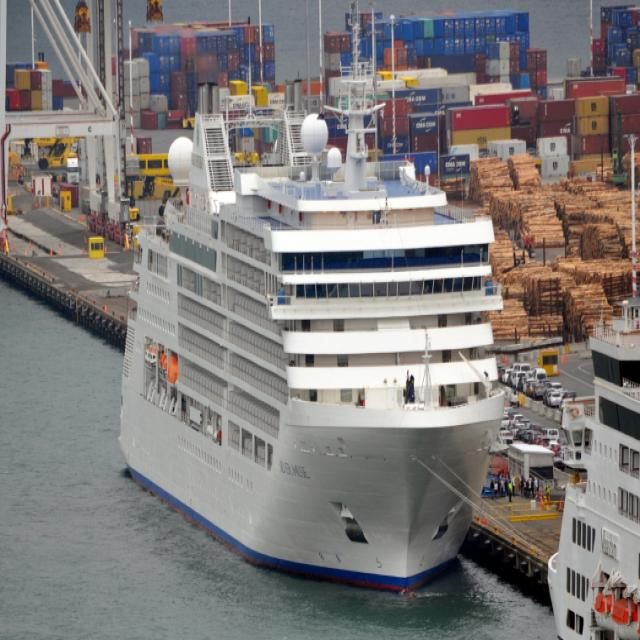cruises: (93, 72, 498, 589)
